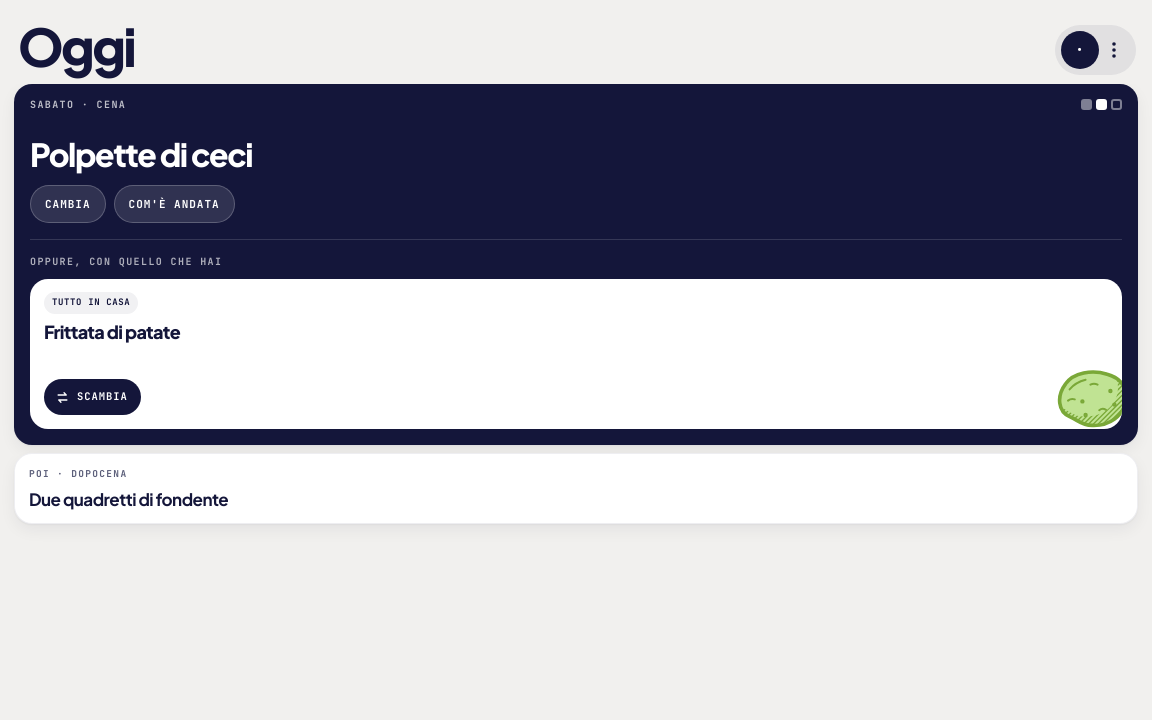
Scenario: Oggi (spec 2026-10-03) › con la dispensa aggiornata: la Frittata, SCAMBIA scrive come Scegli, poi RIMETTI
Click the button with aria-label "Scambia con Frittata di patate".
click(92, 397)  # box [44,379,141,415]
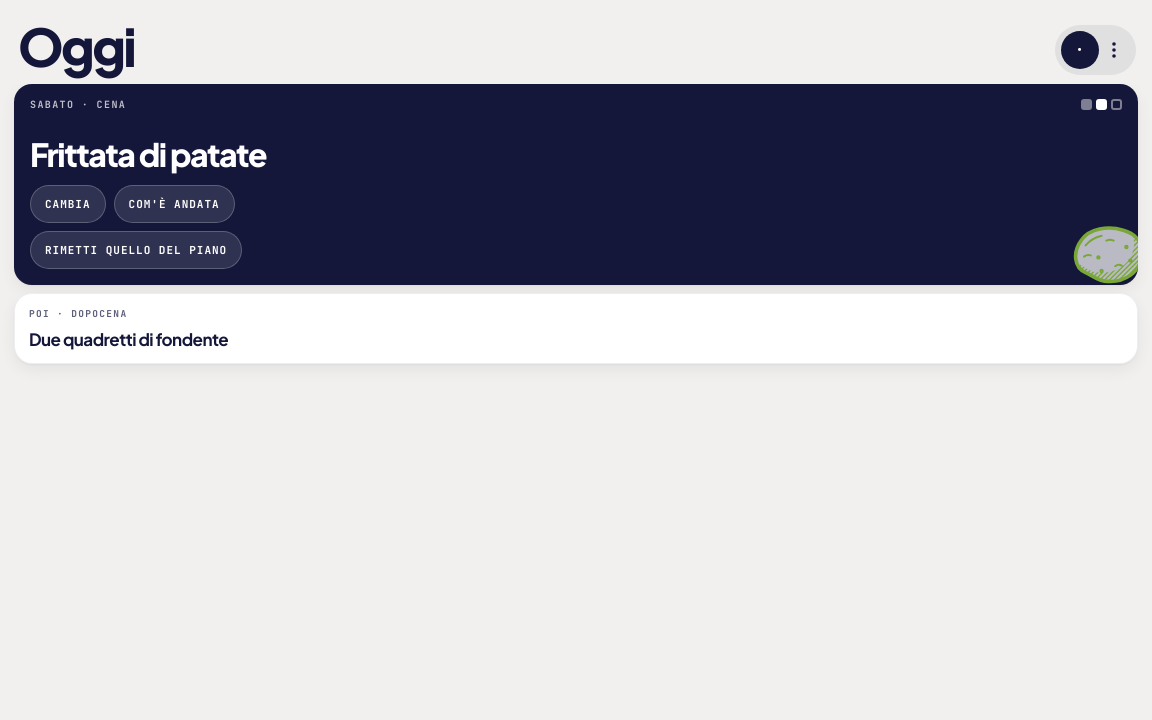
expect the heading "Frittata di patate" is shown: met, box [30,134,266,174]
expect the text "Oppure, con quello che hai" is gone: met
Click the button "Rimetti quello del piano".
click(136, 250)  # box [30,231,242,269]
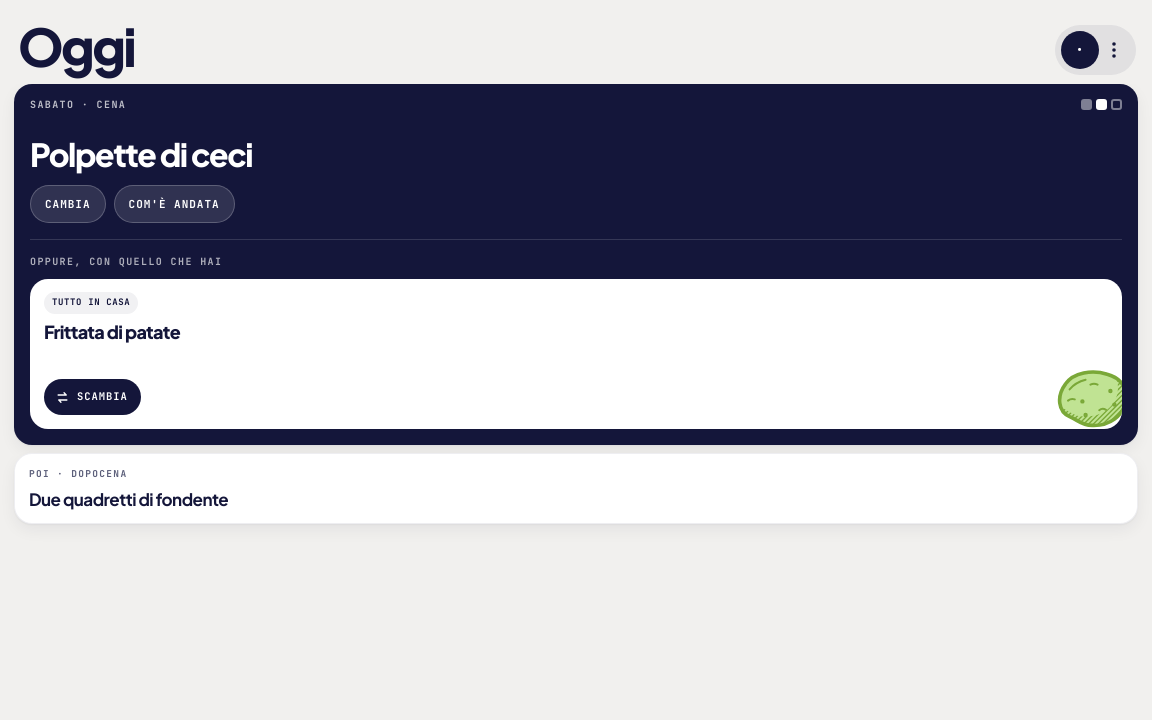
expect the button "Rimetti quello del piano" is gone: met
